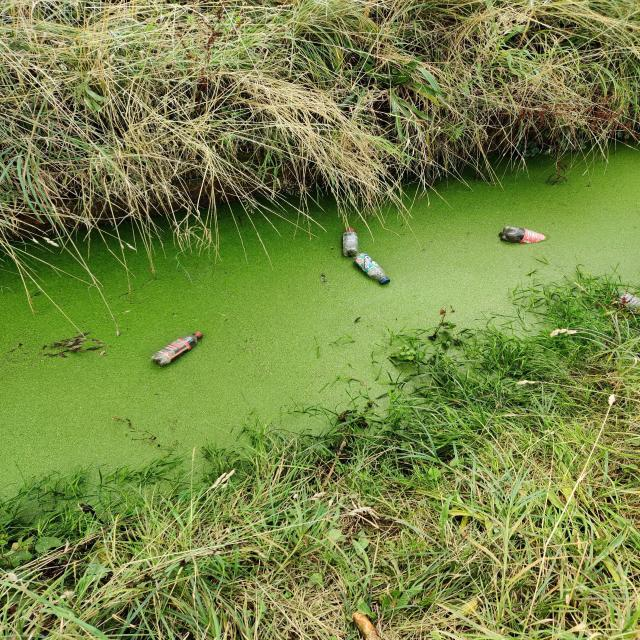litter: (149, 329, 201, 367), (354, 253, 393, 285), (500, 223, 550, 243), (341, 227, 356, 254)
